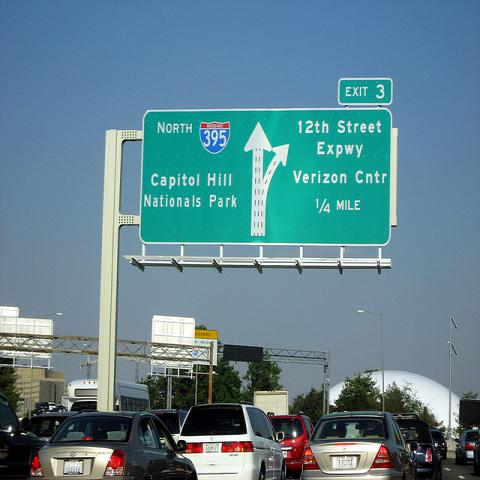bus: (68, 379, 150, 412)
car: (29, 409, 198, 479), (176, 401, 288, 479), (306, 412, 412, 474), (267, 412, 314, 475), (398, 420, 441, 479), (0, 433, 48, 479), (142, 408, 188, 445), (27, 411, 79, 441), (0, 392, 21, 437), (456, 429, 479, 465), (430, 430, 447, 460)
truck: (252, 390, 290, 416)
